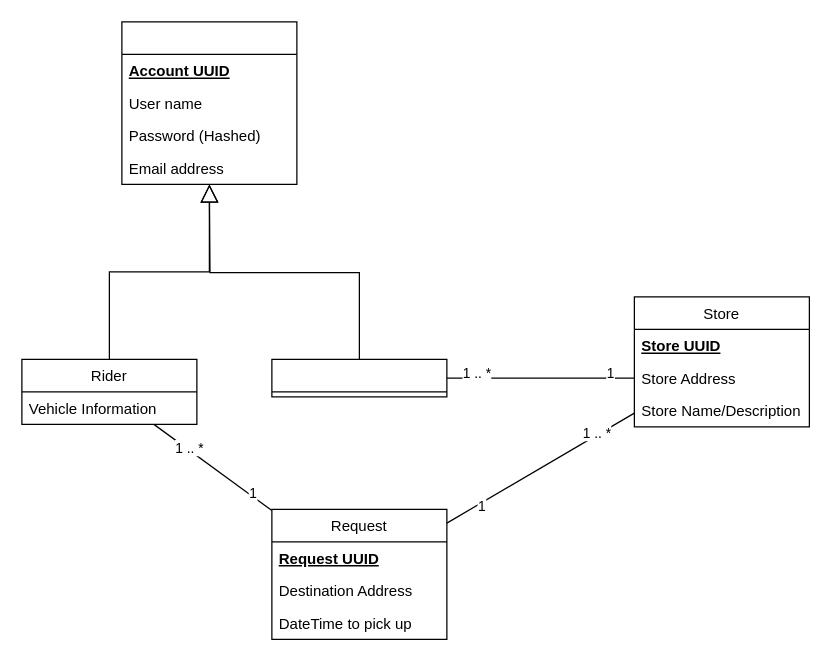
Some shapes in this 831 by 665 pixel diagram are drawn without their labels. Each missing label, with the box of its shape:
Sender: (271, 358, 447, 397)
User Account: (121, 21, 297, 184)
